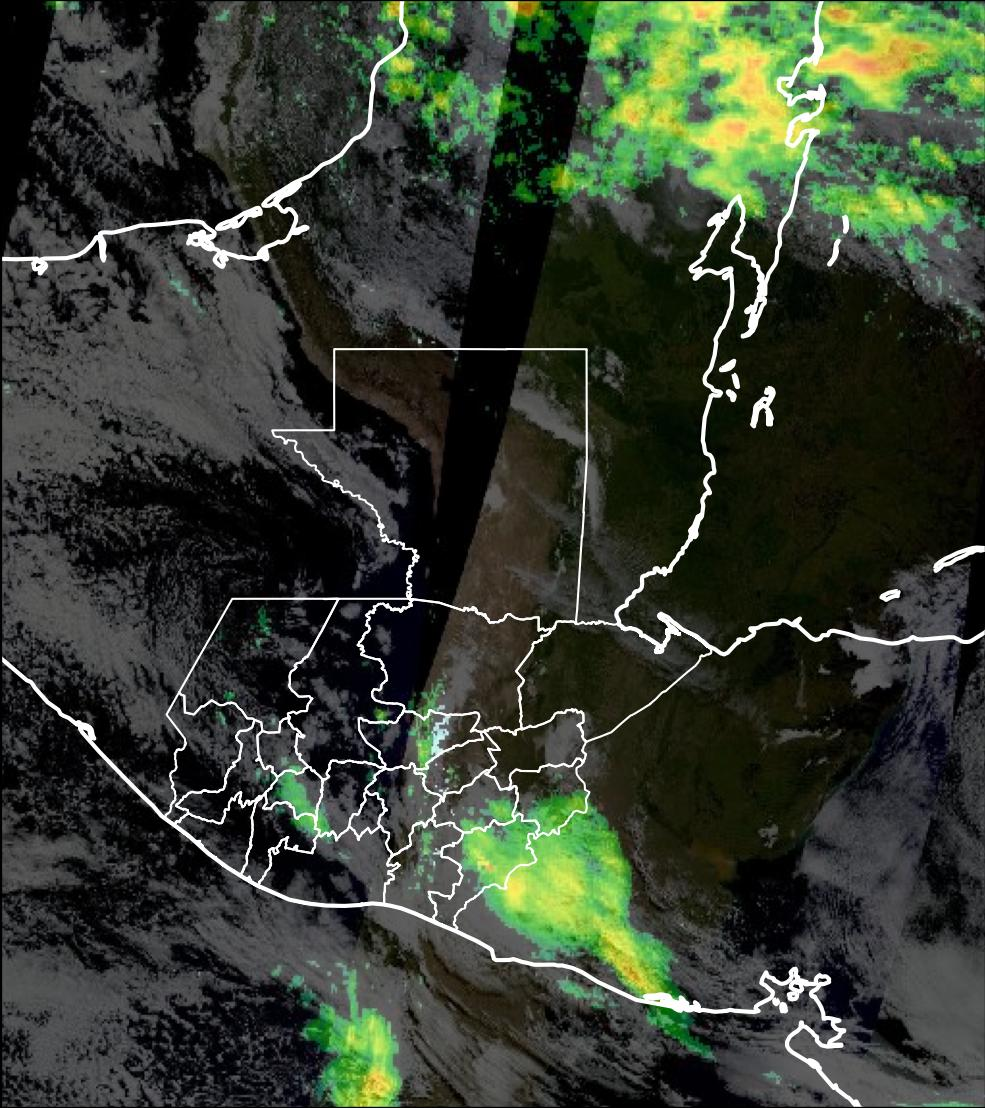precipitacion: (814, 23, 924, 83)
